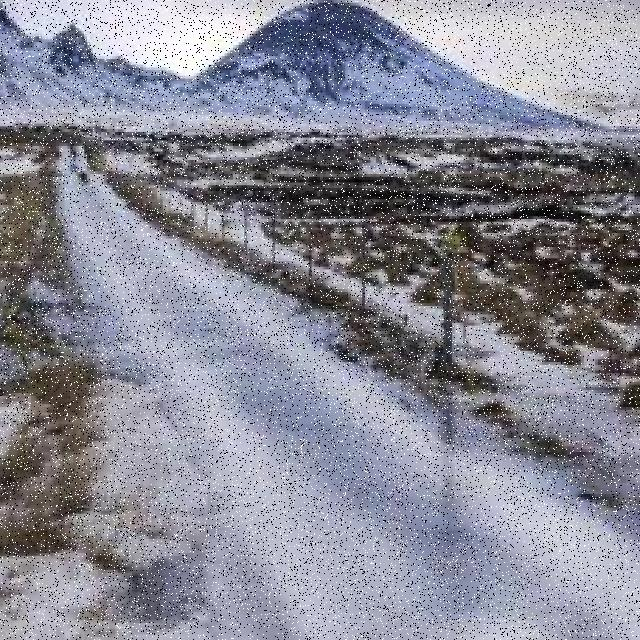ice-road: (60, 172, 640, 640)
